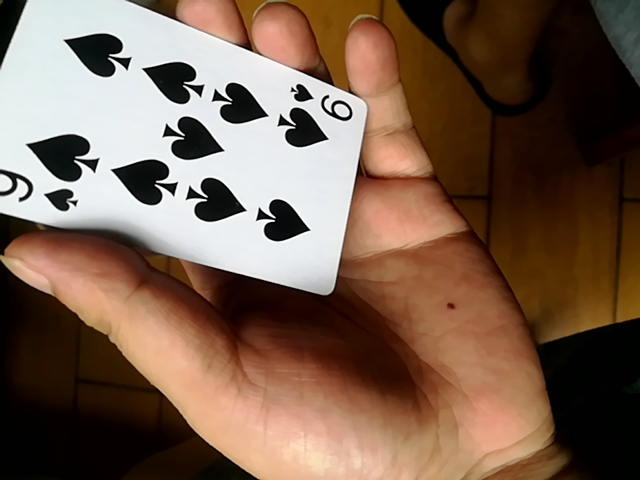ht 9: (5, 3, 367, 303)
